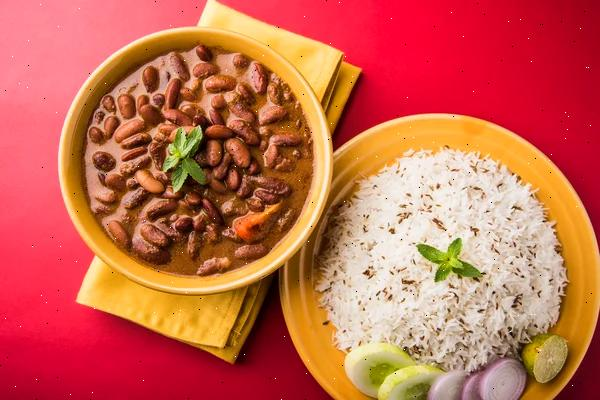rice: (86, 59, 304, 269), (351, 159, 540, 348)
